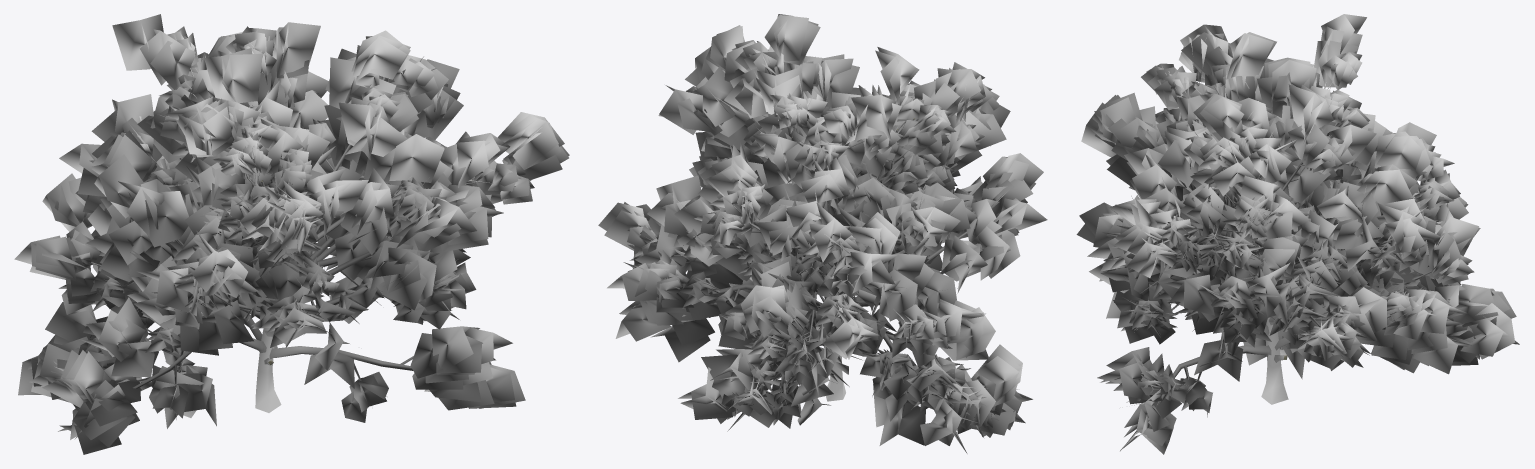
The model's file is SycamoreNorthAmerican_E.fbx.
3 renders of one model, left to right at view 1: azimuth 30°, elevation 25°; view 2: azimuth 150°, elevation 25°; view 3: azimuth 270°, elevation 25°, orthographic. The views are drawn at different scales.
Parts seen in each view (by area): view 1: SycamoreNorthAmerican_E_LOD0; view 2: SycamoreNorthAmerican_E_LOD0; view 3: SycamoreNorthAmerican_E_LOD0.
Part boxes in pixels (bbox=[...]): SycamoreNorthAmerican_E_LOD0: bbox=[14, 14, 569, 454]; SycamoreNorthAmerican_E_LOD0: bbox=[598, 14, 1047, 453]; SycamoreNorthAmerican_E_LOD0: bbox=[1076, 14, 1519, 454].
Size of the model in its own units: 2421 by 2043 by 2327.
